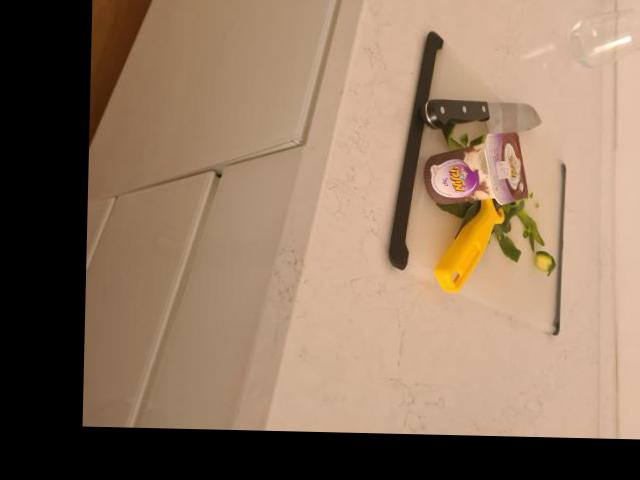milky: (419, 135, 532, 206)
